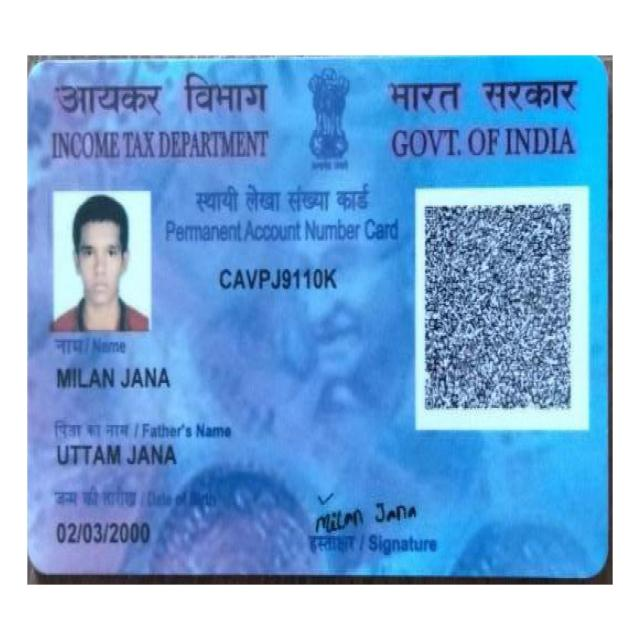pan_card: (29, 58, 606, 576)
